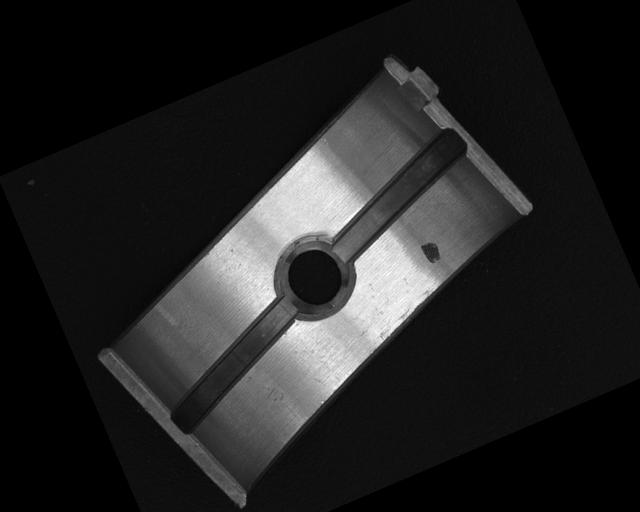blot: (418, 236, 444, 266)
gap: (142, 291, 325, 437), (309, 125, 489, 268)
hole: (268, 227, 357, 321)
